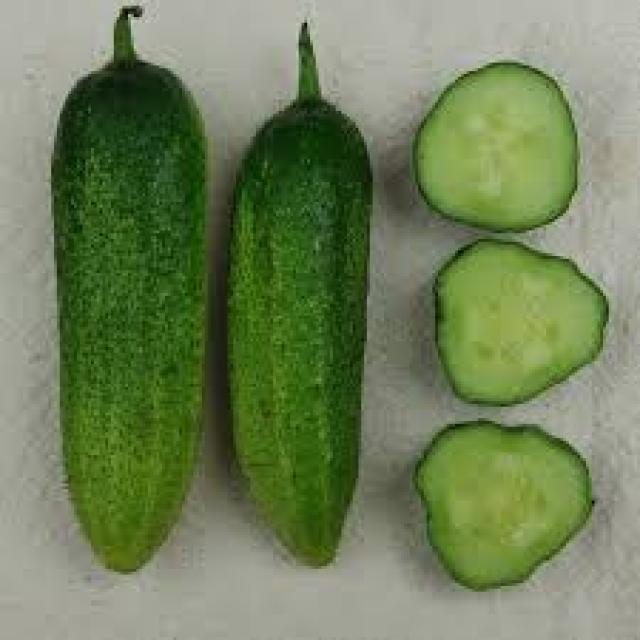Pickle: (52, 8, 205, 571), (229, 25, 371, 564), (436, 239, 609, 404), (415, 426, 590, 589), (414, 62, 578, 231)
